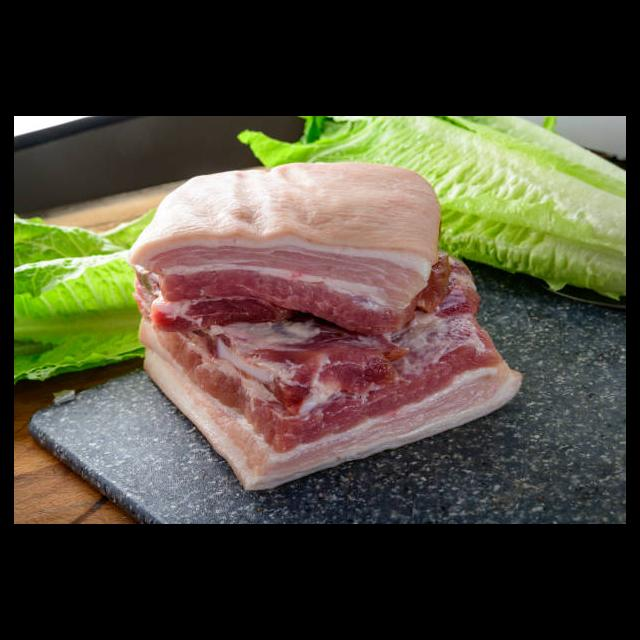pork: (142, 317, 498, 494), (138, 159, 432, 314)
